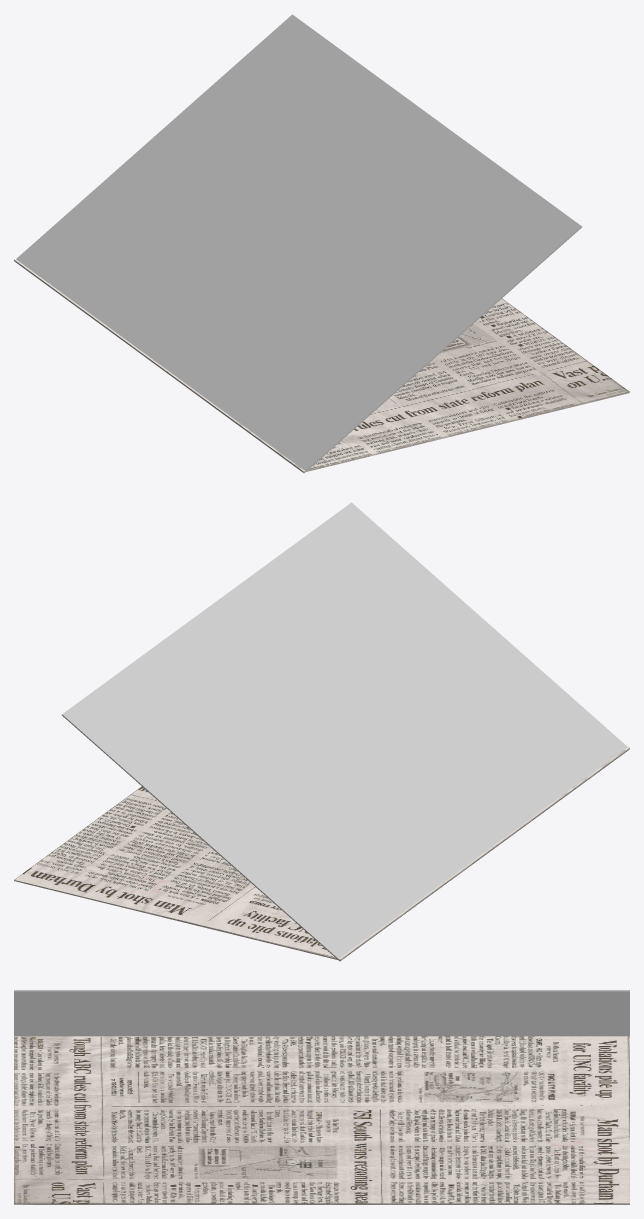
File: newspaper.FBX
The picture shows the model from 3 angles, top to bottom: view 1: azimuth 30°, elevation 25°; view 2: azimuth 150°, elevation 25°; view 3: azimuth 270°, elevation 25°; orthographic projection. The views are drawn at different scales.
Visible parts, largest first — view 1: Page1, Page2; view 2: Page1, Page2; view 3: Page2, Page1.
Part boxes in pixels (x1,y1,x2,y2): Page1: (14, 14, 581, 473); Page2: (14, 259, 629, 472); Page1: (62, 502, 629, 961); Page2: (14, 747, 629, 960); Page2: (14, 1036, 629, 1204); Page1: (14, 990, 629, 1036).
Bounding box in the file's own units: 28 × 14.72 × 43.
